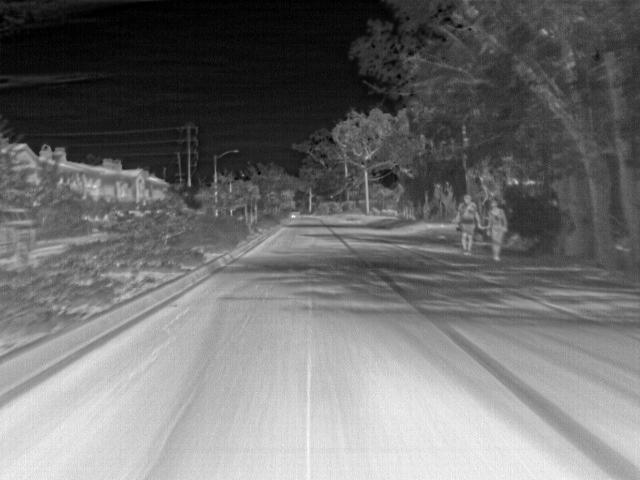car: (0, 206, 39, 264)
person: (484, 197, 510, 262), (458, 191, 480, 258)
